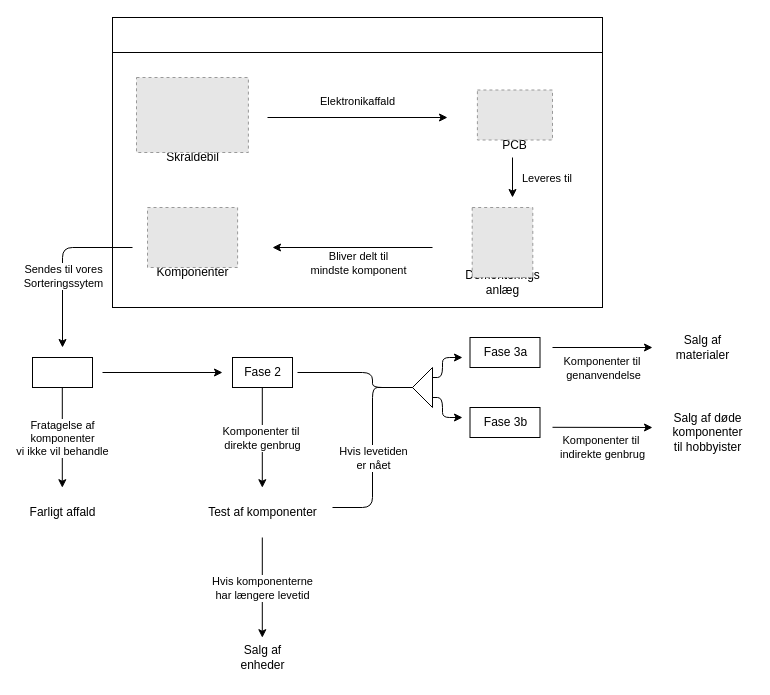
This 770x695 diagram has some shape labels left out. Grey dashed boxes stand in for pictures. Each missing label, with the box of its shape:
Fase 1: (32, 356, 92, 388)
Forudsætning for projektet: (112, 16, 602, 52)
